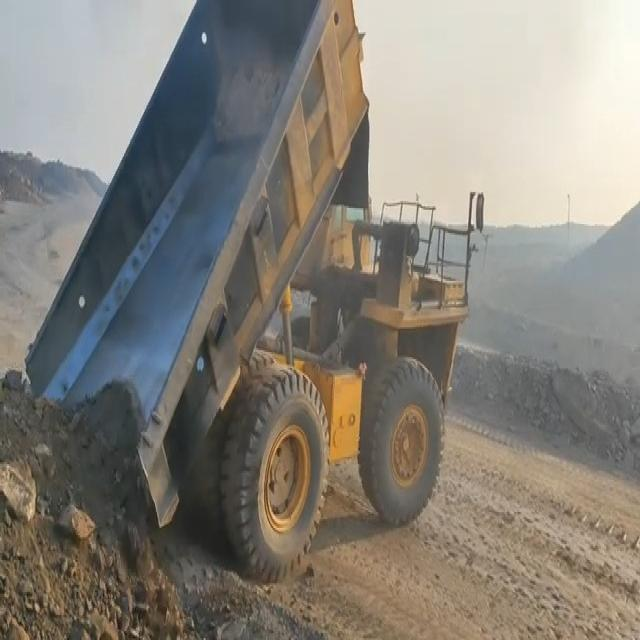dump_truck: (60, 5, 473, 530)
